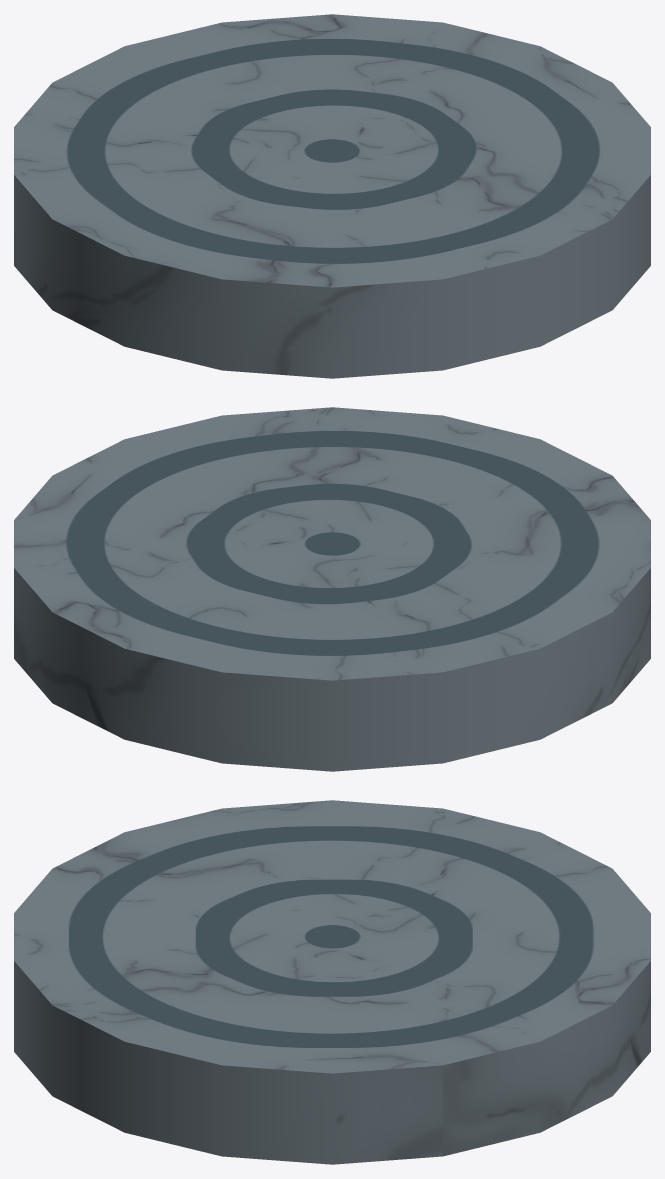
The model's file is Target.fbx.
3 views of the same model, one above another, from view 1: azimuth 30°, elevation 25°; view 2: azimuth 150°, elevation 25°; view 3: azimuth 270°, elevation 25° (orthographic).
Parts seen in each view (by area): view 1: SM_Target1; view 2: SM_Target1; view 3: SM_Target1.
Part boxes in pixels (x1,y1,x2,y2): SM_Target1: [14, 14, 650, 378]; SM_Target1: [14, 407, 650, 771]; SM_Target1: [14, 800, 650, 1164].
Bounding box in the file's own units: 2 × 0.3107 × 1.97.
